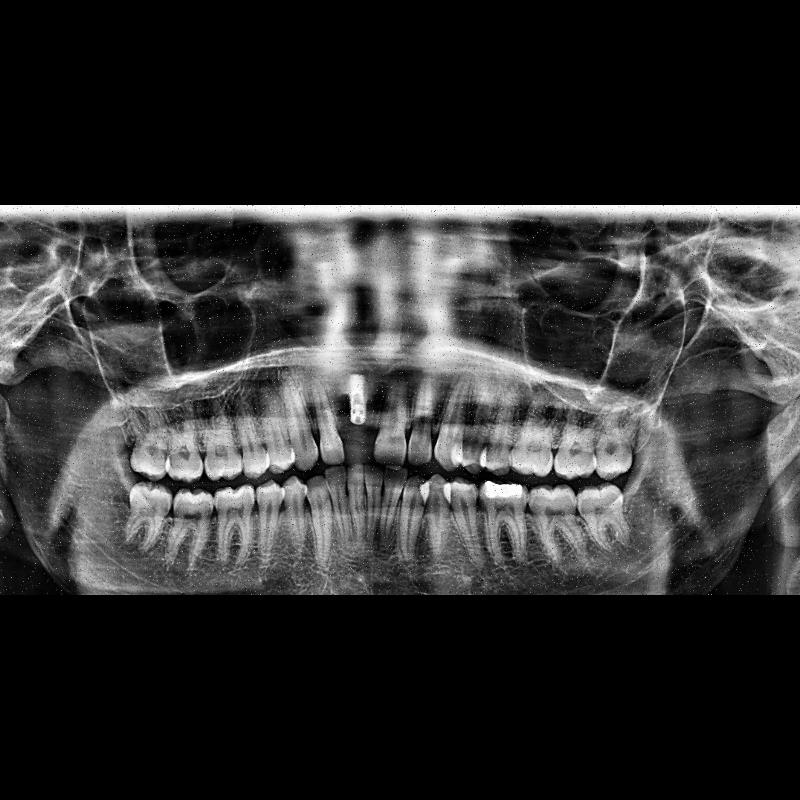osstem: (342, 368, 374, 426)
